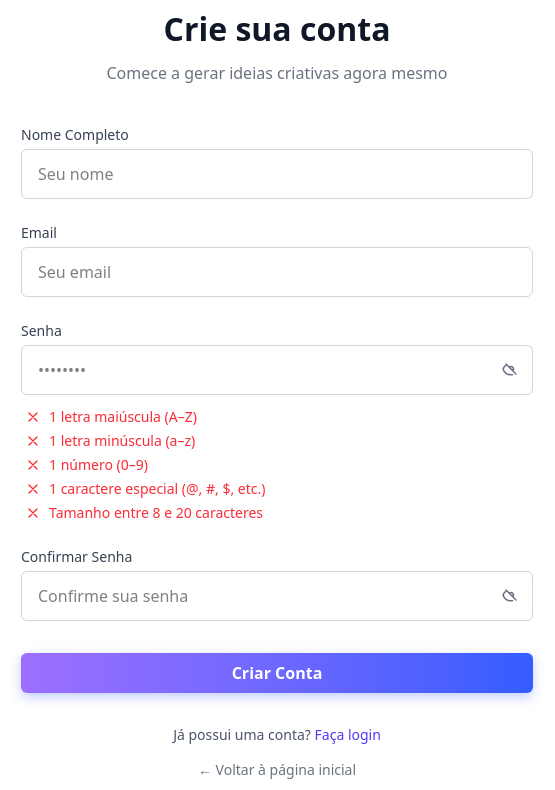
Scenario: RegisterForm › mostra erro quando a senha não atende critérios
In the field with placeholder "Seu nome": (277, 174) [21,149,533,199], type "Pessoa"
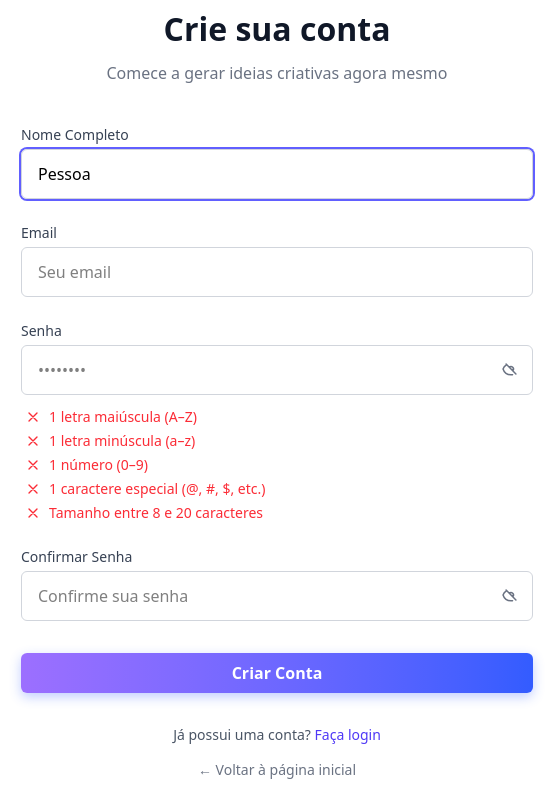
In the field with placeholder "Seu email": (277, 272) [21,247,533,297], type "user@example.com"
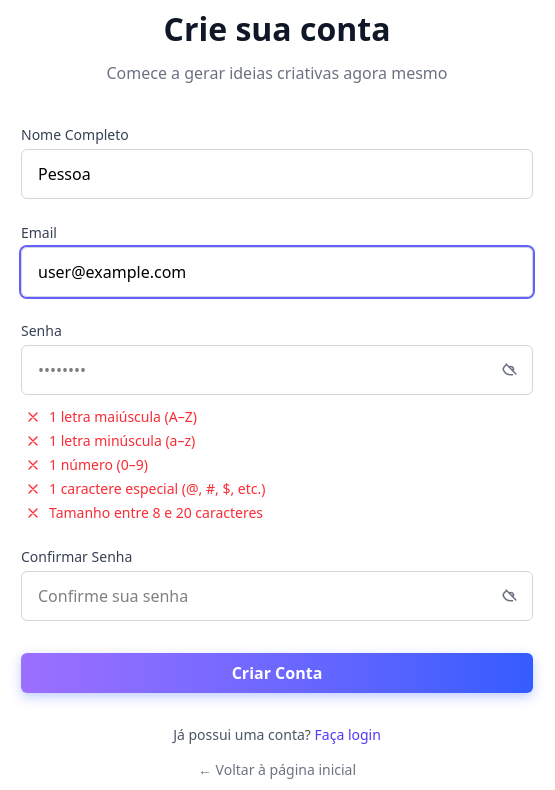
In the password field labelled "Senha": (277, 370) [21,345,533,395], type "12345678"
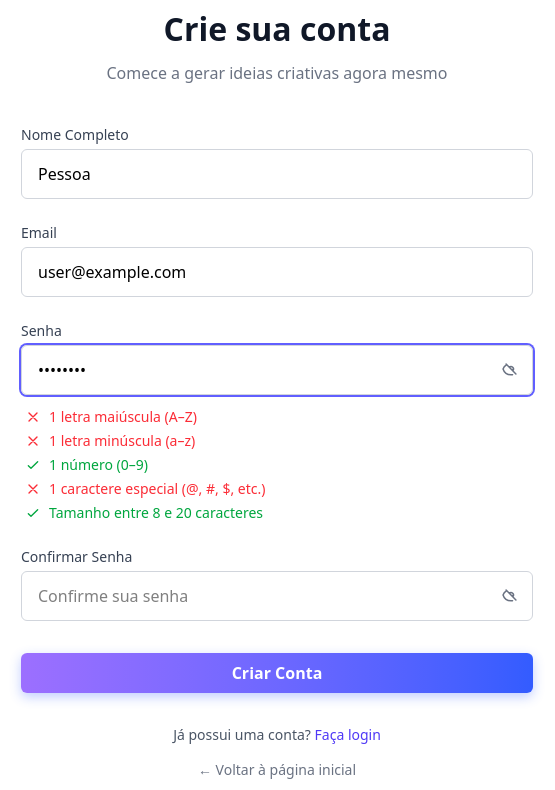
In the password field labelled "Confirmar Senha": (277, 596) [21,571,533,621], type "12345678"
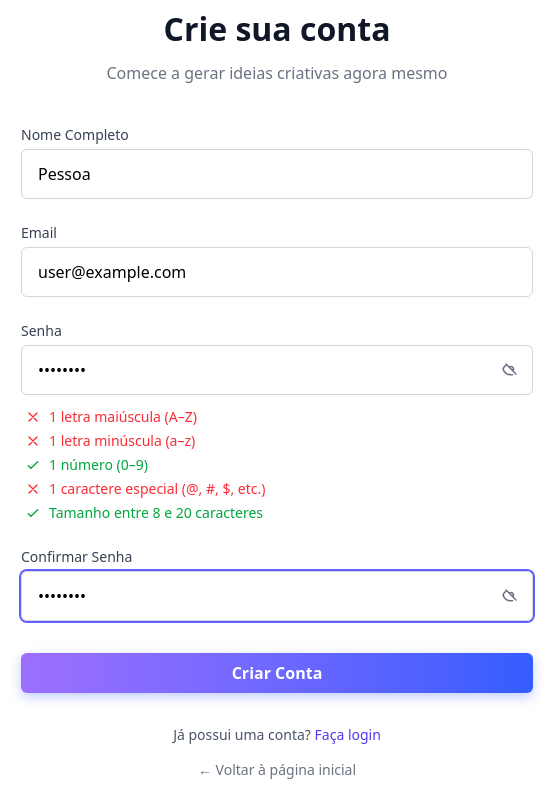
Click the button "Criar Conta": (277, 673) [21,653,533,693]
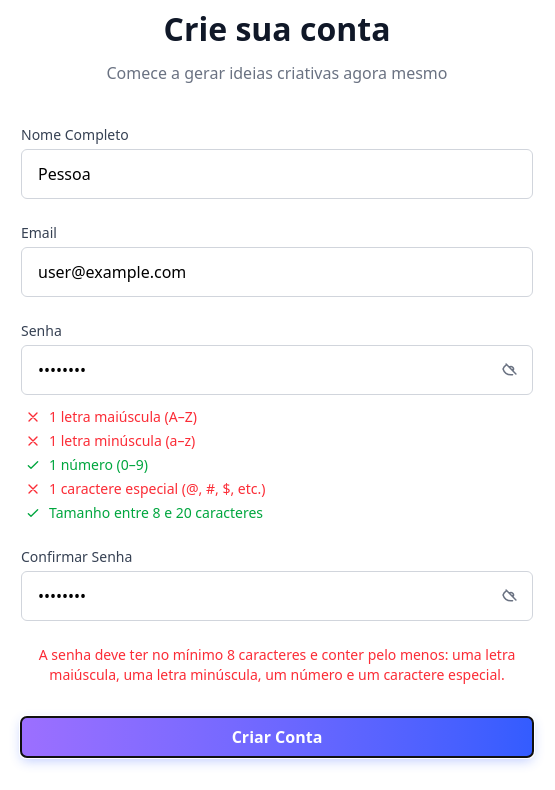
expect the text "A senha deve ter no mínimo 8 caracteres" is shown: met, box [39,645,515,684]
